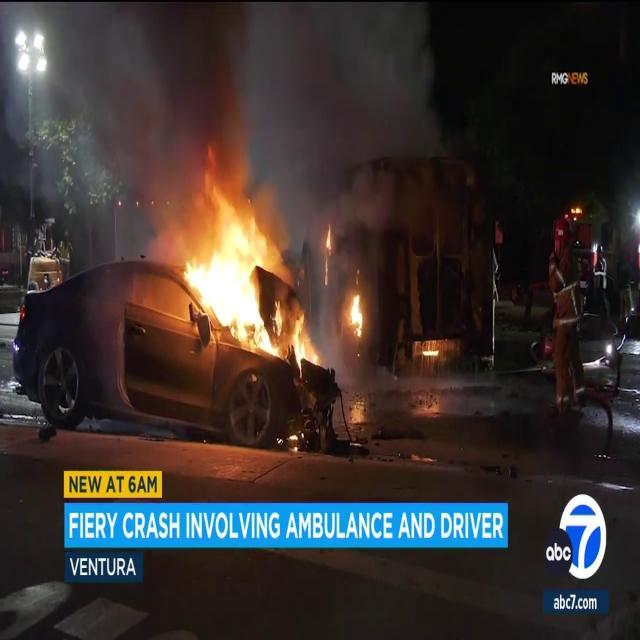Fire: (173, 206, 272, 352), (269, 289, 324, 377), (346, 285, 366, 339)
Smoke: (257, 1, 447, 230), (51, 1, 257, 204)
